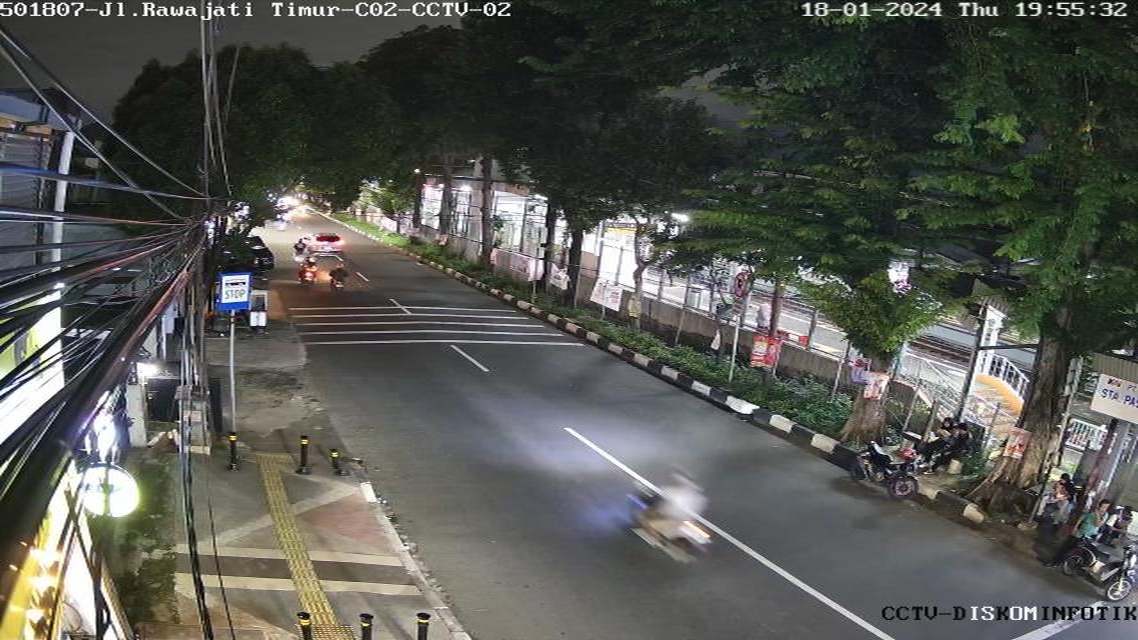Gerobak: (249, 276, 272, 335)
